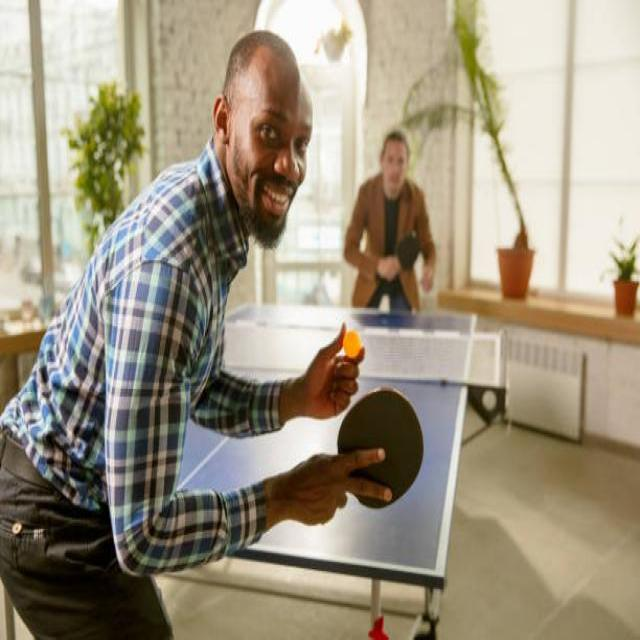ping-pong-ball: (344, 331, 358, 354)
